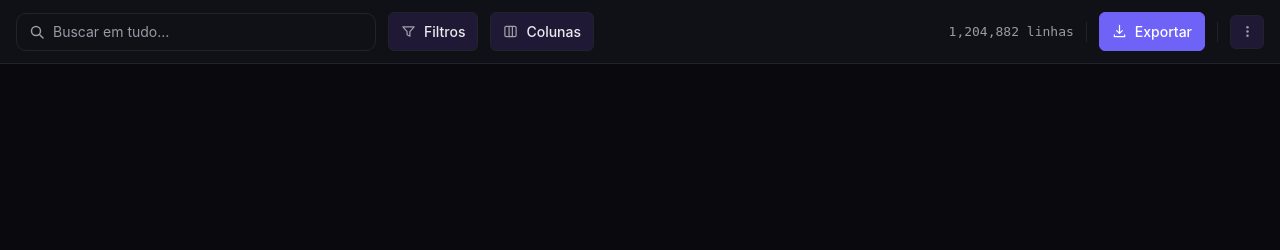
Test case: ViewerToolbar › reflete a coluna fixada com a variação "pinned" de ColumnChip no menu "Colunas"
Click the button with class "dropdown__trigger" showing "Colunas" at (542, 32), box [490,12,594,51]
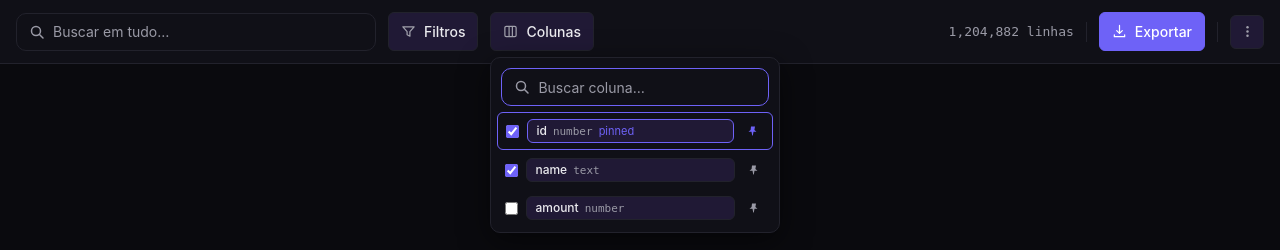
Expected: the element with class "chip--pinned" is shown, [527,119,734,143]
